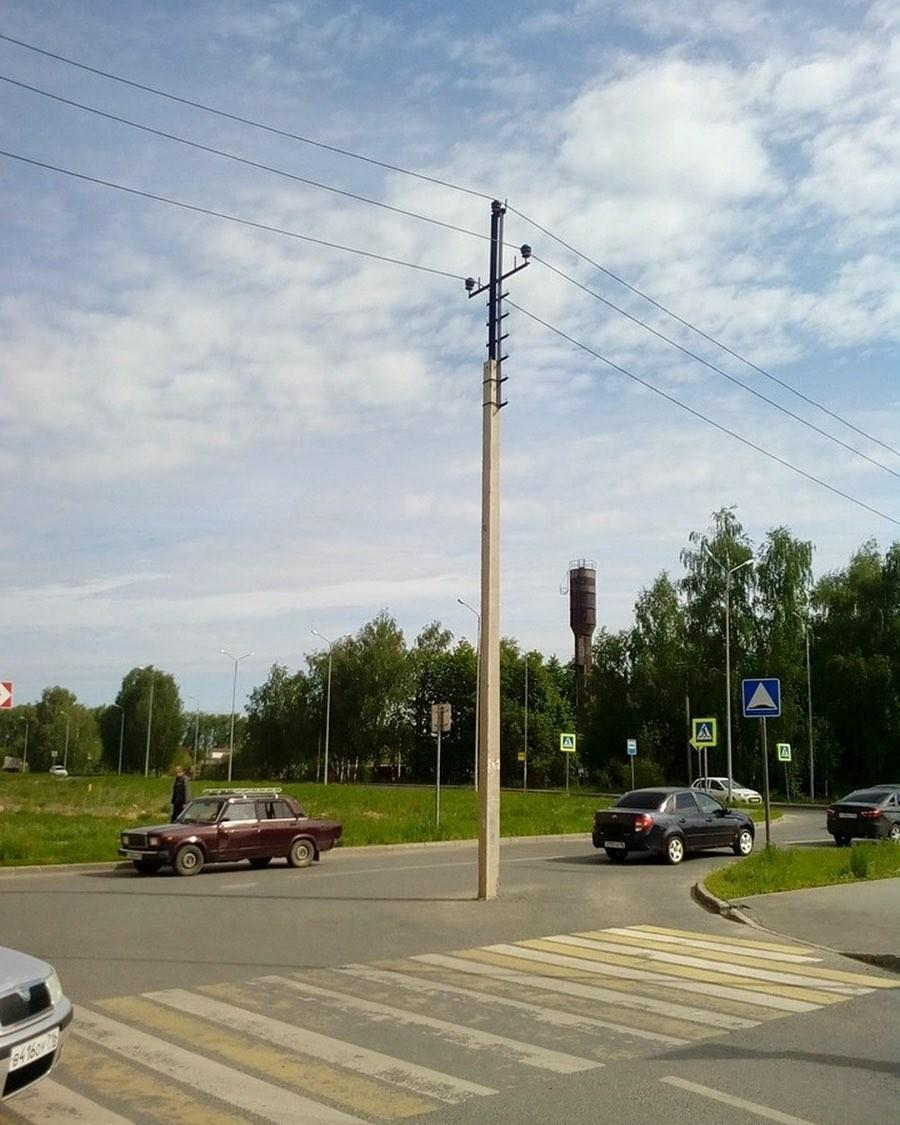Animal: (431, 191, 551, 915)
